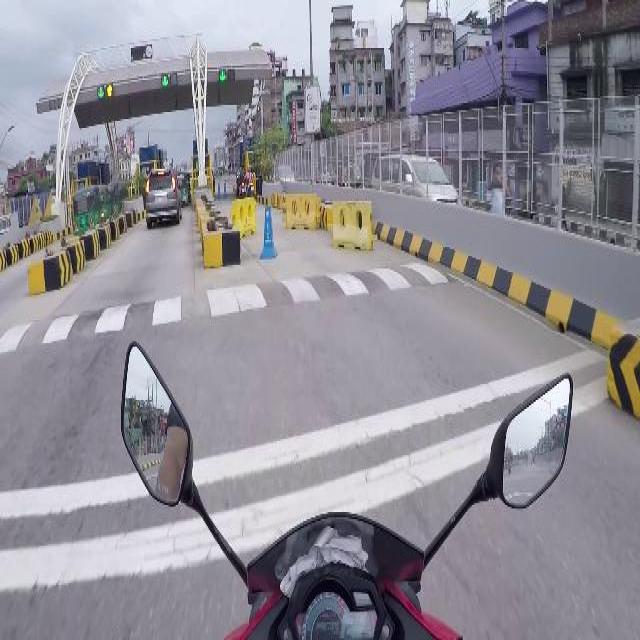bike: (116, 334, 574, 640), (245, 168, 256, 197), (237, 167, 246, 194)
vehicle: (372, 154, 461, 204), (145, 170, 182, 227), (73, 184, 102, 234), (99, 183, 113, 217), (177, 172, 189, 207), (110, 184, 124, 214), (274, 165, 297, 183), (347, 166, 364, 188)
